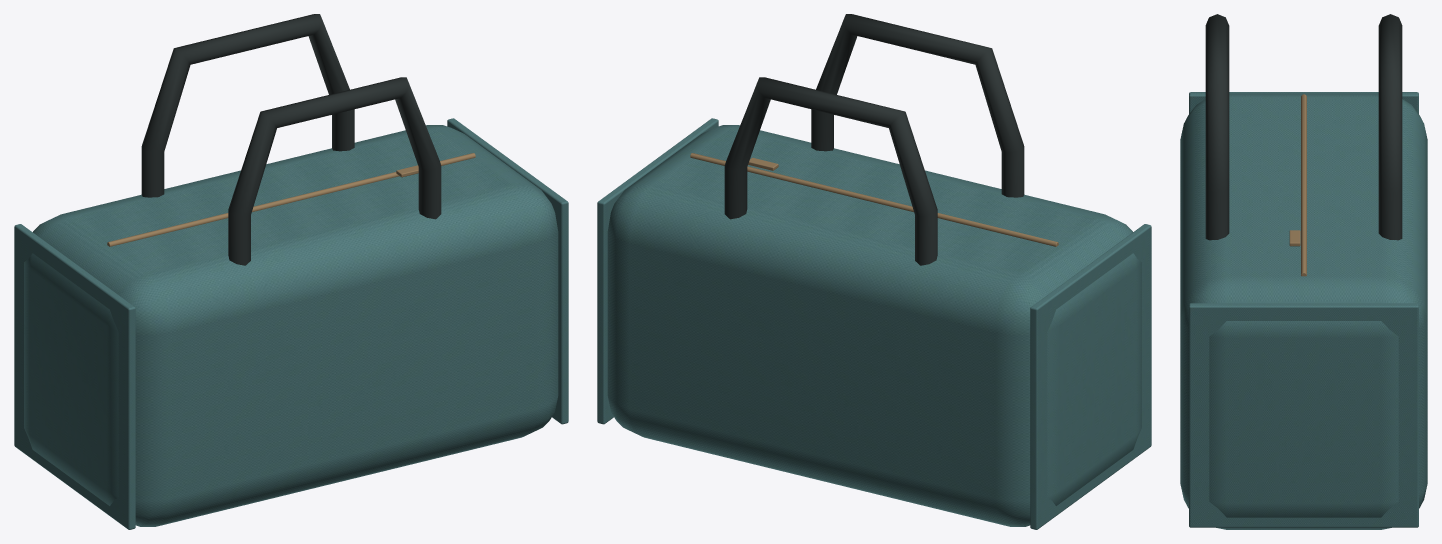
The model's file is football-duffel-bag.glb.
3 renders of one model, left to right at view 1: azimuth 30°, elevation 25°; view 2: azimuth 150°, elevation 25°; view 3: azimuth 270°, elevation 25°, orthographic.
Visible parts, largest first — view 1: Padded fabric travel shell, Reinforced bag end panel, Canvas carrying strap, Canvas carrying strap.001, Reinforced bag end panel.001, Zipper top seam; view 2: Padded fabric travel shell, Reinforced bag end panel, Canvas carrying strap.001, Canvas carrying strap, Reinforced bag end panel.001, Zipper top seam; view 3: Padded fabric travel shell, Reinforced bag end panel.001, Canvas carrying strap, Canvas carrying strap.001, Zipper top seam, Reinforced bag end panel.
Boxes of the visible parts, bbox=[...] form: Padded fabric travel shell: bbox=[24, 125, 558, 526]; Reinforced bag end panel: bbox=[14, 224, 135, 529]; Canvas carrying strap: bbox=[228, 77, 441, 265]; Canvas carrying strap.001: bbox=[141, 14, 354, 197]; Reinforced bag end panel.001: bbox=[447, 118, 568, 424]; Zipper top seam: bbox=[107, 153, 475, 246]; Padded fabric travel shell: bbox=[607, 125, 1141, 526]; Reinforced bag end panel: bbox=[1030, 224, 1151, 529]; Canvas carrying strap.001: bbox=[724, 77, 937, 265]; Canvas carrying strap: bbox=[811, 14, 1024, 197]; Reinforced bag end panel.001: bbox=[597, 118, 718, 424]; Zipper top seam: bbox=[690, 153, 1058, 246]; Padded fabric travel shell: bbox=[1180, 93, 1427, 529]; Reinforced bag end panel.001: bbox=[1189, 303, 1418, 527]; Canvas carrying strap: bbox=[1205, 14, 1229, 240]; Canvas carrying strap.001: bbox=[1378, 14, 1402, 240]; Zipper top seam: bbox=[1301, 94, 1306, 276]; Reinforced bag end panel: bbox=[1189, 92, 1418, 113].
Size of the model in its own units: 0.521 by 0.4318 by 0.25.
Materials: 3 (3 with a texture image).
